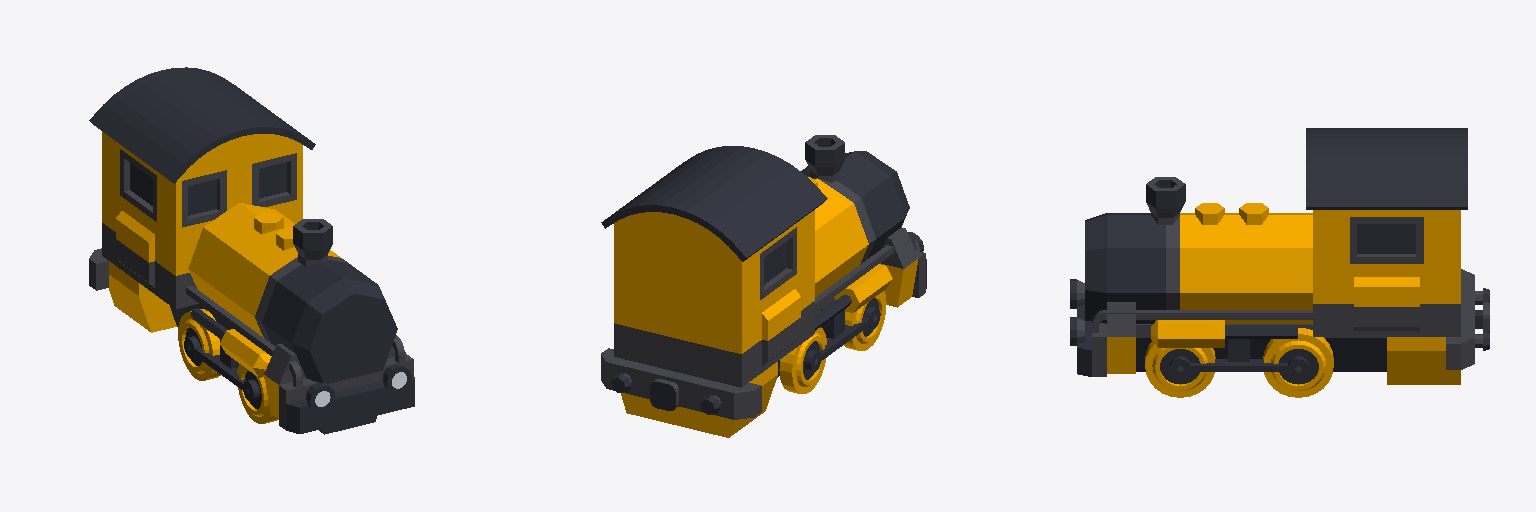
The model's file is SteamTrain.obj.
The picture shows the model from 3 angles: view 1: azimuth 30°, elevation 25°; view 2: azimuth 150°, elevation 25°; view 3: azimuth 270°, elevation 25°; orthographic projection.
Visible parts, largest first — view 1: mergedBlocks; view 2: mergedBlocks; view 3: mergedBlocks.
Boxes of the visible parts, x1,y1,x2,y2 form: mergedBlocks: [89, 67, 414, 434]; mergedBlocks: [601, 135, 926, 437]; mergedBlocks: [1070, 128, 1489, 397].
Bounding box in the file's own units: 1.2 × 1.75 × 2.85.